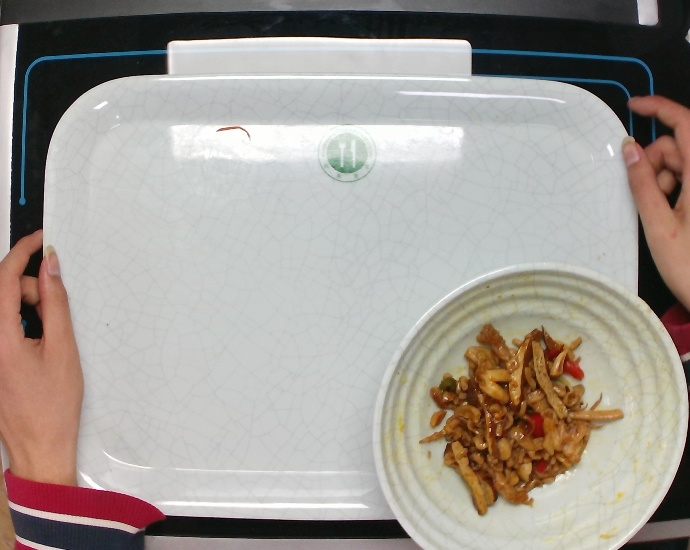JYsf-Da_Tang_Wan: (368, 259, 690, 550)
